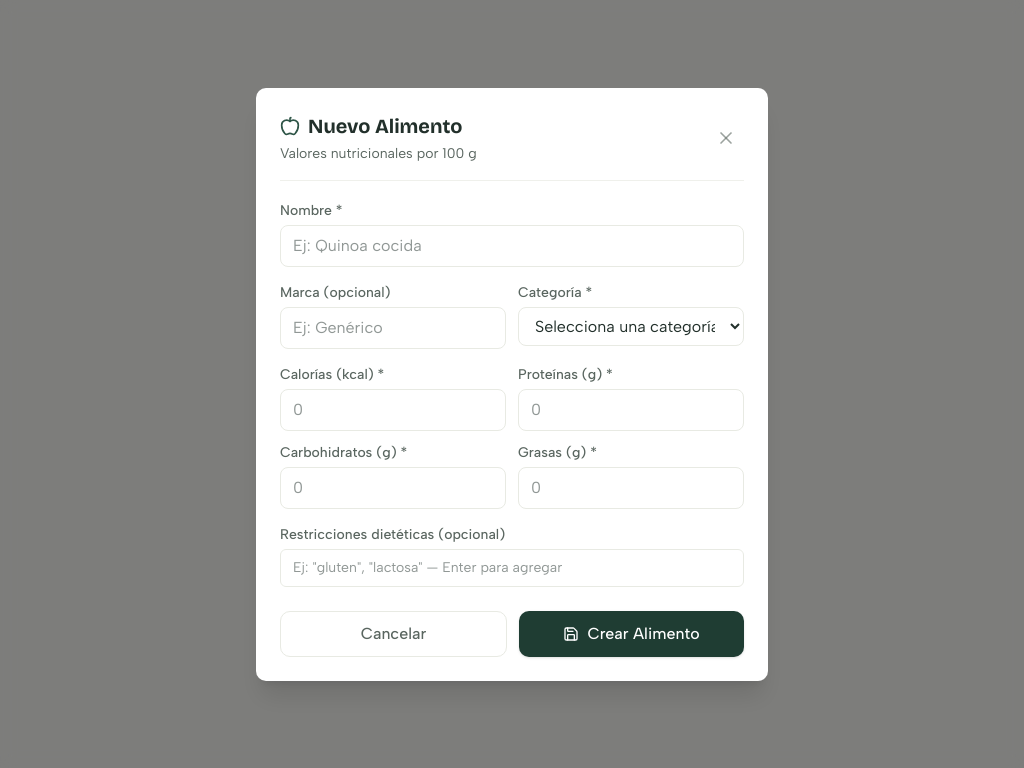
Scenario: ModalNuevoAlimento › handleGuardar — validaciones › sin categoría muestra error "Selecciona una categoría"
The width and height of the screenshot is (1024, 768).
Step 1. Type "Atún" into the field with placeholder "Ej: Quinoa cocida" → x=512, y=246, box [280,224,744,266]
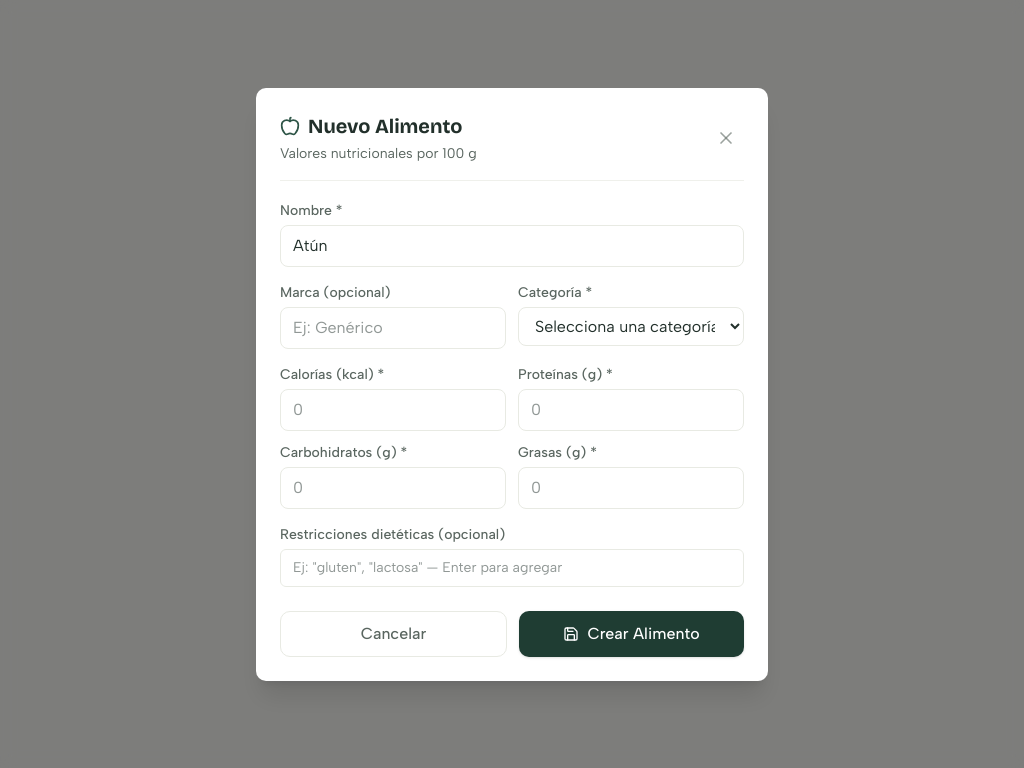
Step 2. Click the button "Crear Alimento" → x=632, y=634, box [519,610,744,656]
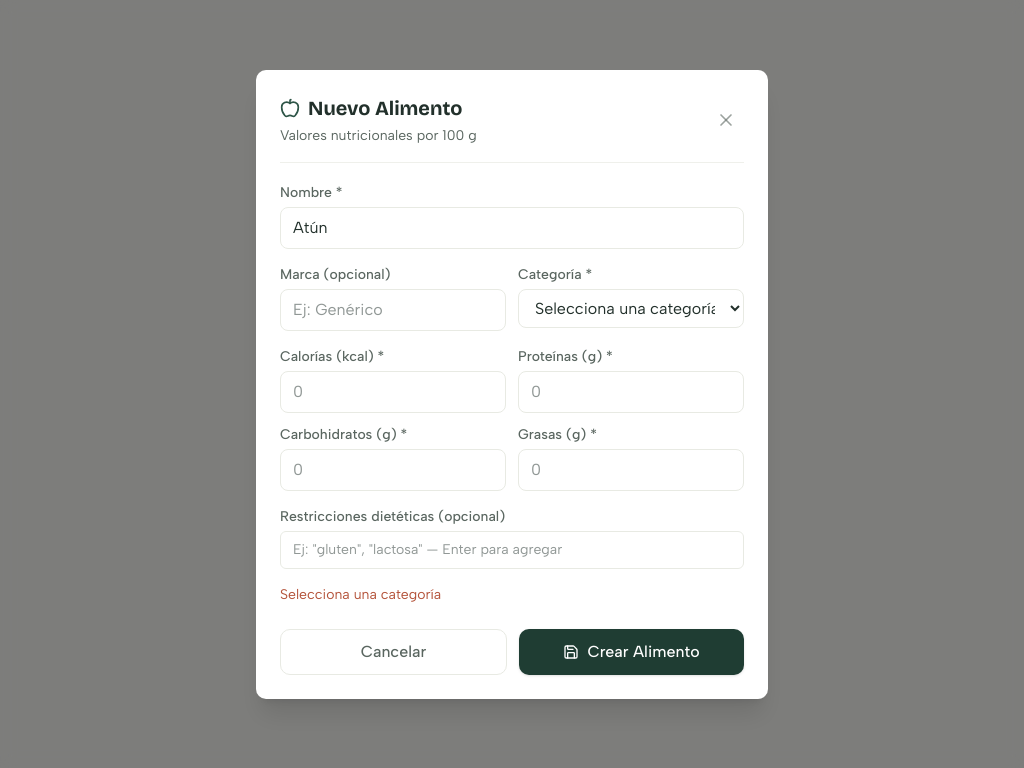
Check: the message reads "Selecciona una categoría", box [280,586,441,602]
